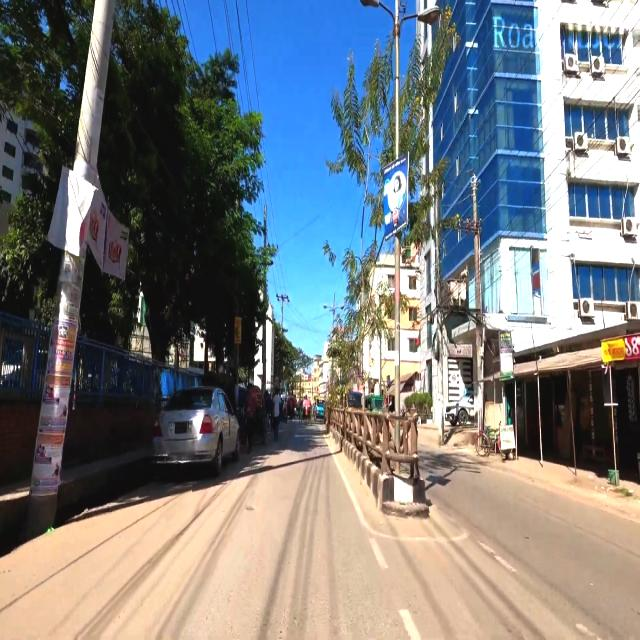white: (151, 384, 240, 475)
